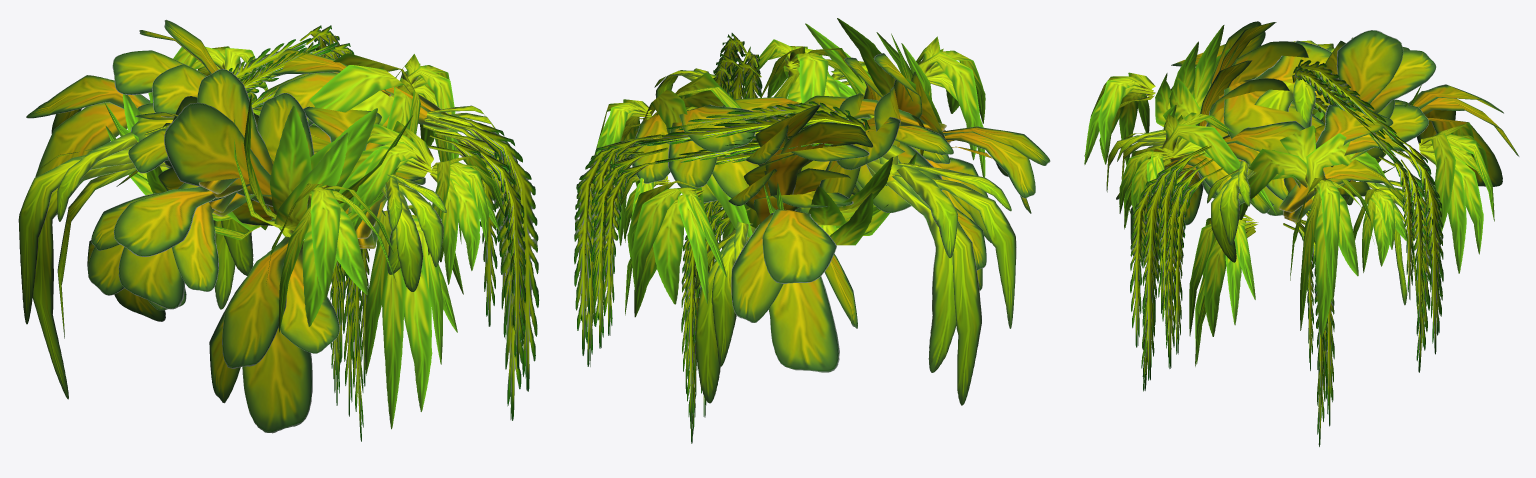
File: HangingPlant03_Dream.glb
3 renders of one model, left to right at view 1: azimuth 30°, elevation 25°; view 2: azimuth 150°, elevation 25°; view 3: azimuth 270°, elevation 25°, orthographic. The views are drawn at different scales.
Parts seen in each view (by area): view 1: HangingPlant03_dream; view 2: HangingPlant03_dream; view 3: HangingPlant03_dream.
Part boxes in pixels (bbox=[...]): HangingPlant03_dream: bbox=[18, 19, 539, 441]; HangingPlant03_dream: bbox=[574, 18, 1050, 443]; HangingPlant03_dream: bbox=[1084, 21, 1519, 446].
Size of the model in its own units: 0.866 by 0.8596 by 0.9088.
Materials: 1 (1 with a texture image).
